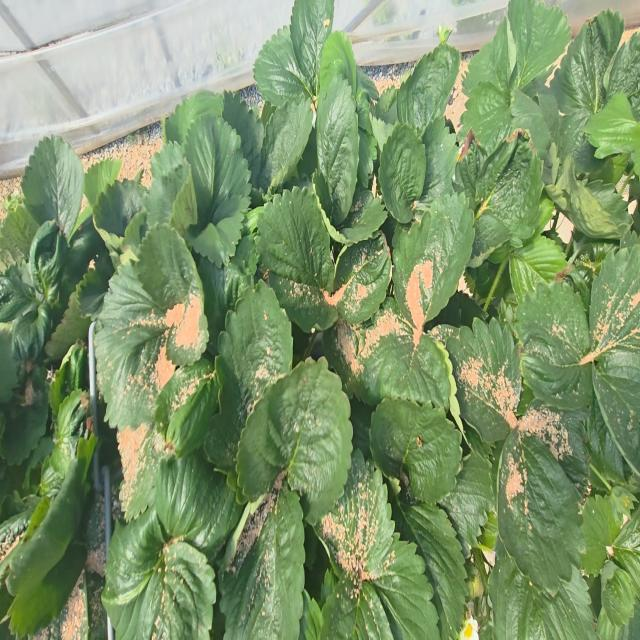Leaves: (237, 360, 352, 523), (204, 281, 292, 470), (101, 510, 215, 639), (497, 430, 585, 593), (324, 297, 449, 409), (220, 488, 305, 639), (95, 264, 167, 431), (427, 319, 522, 443), (391, 489, 467, 639), (392, 191, 474, 328), (133, 225, 209, 366), (314, 450, 394, 581), (489, 543, 595, 639), (516, 283, 592, 409), (370, 399, 462, 502), (154, 450, 242, 555), (258, 185, 334, 290), (551, 11, 623, 120), (185, 114, 250, 229), (475, 132, 543, 240), (371, 533, 440, 639), (21, 137, 84, 239), (317, 75, 359, 226), (518, 405, 589, 494), (592, 347, 640, 475), (396, 43, 460, 136), (589, 245, 640, 360), (438, 453, 496, 550), (508, 0, 570, 88), (254, 27, 318, 107), (259, 95, 313, 189), (335, 234, 391, 324), (117, 424, 167, 519), (378, 124, 426, 222), (0, 367, 48, 465), (321, 574, 393, 639), (584, 94, 640, 175), (290, 0, 334, 102), (264, 272, 337, 332), (190, 196, 248, 268), (508, 231, 567, 300), (418, 116, 459, 206), (463, 19, 509, 98), (28, 220, 68, 306), (49, 389, 86, 478), (581, 495, 622, 574), (461, 92, 512, 155), (164, 91, 223, 145), (94, 179, 146, 236), (338, 191, 387, 245), (11, 301, 52, 363), (602, 568, 636, 626), (0, 264, 34, 322), (84, 158, 122, 209), (77, 260, 108, 322)
